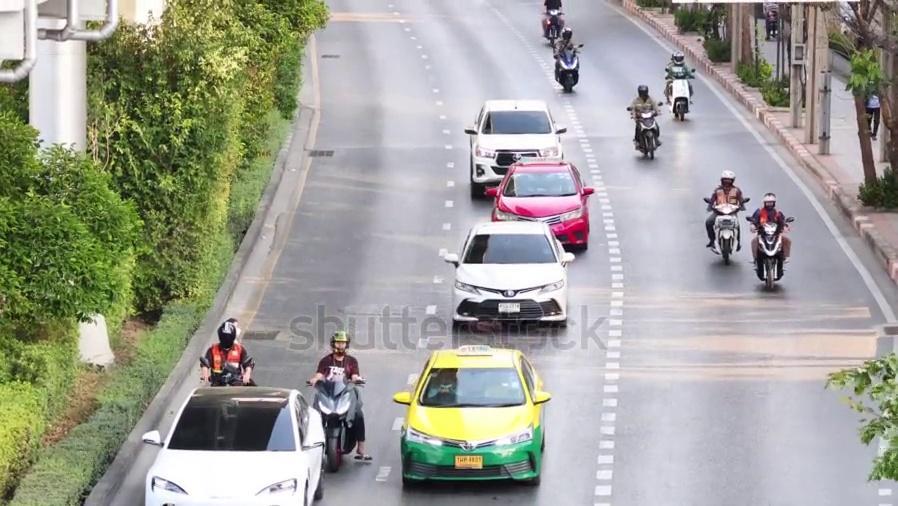person: (865, 90, 880, 140)
rider: (307, 330, 372, 460), (198, 317, 255, 386), (746, 191, 790, 267), (704, 169, 744, 247), (549, 24, 586, 94), (626, 83, 662, 149), (663, 51, 695, 105)
with_helmate: (215, 322, 236, 346), (326, 334, 351, 352), (719, 171, 735, 192), (760, 194, 779, 211), (671, 51, 689, 68), (636, 84, 651, 101), (560, 28, 574, 44)
